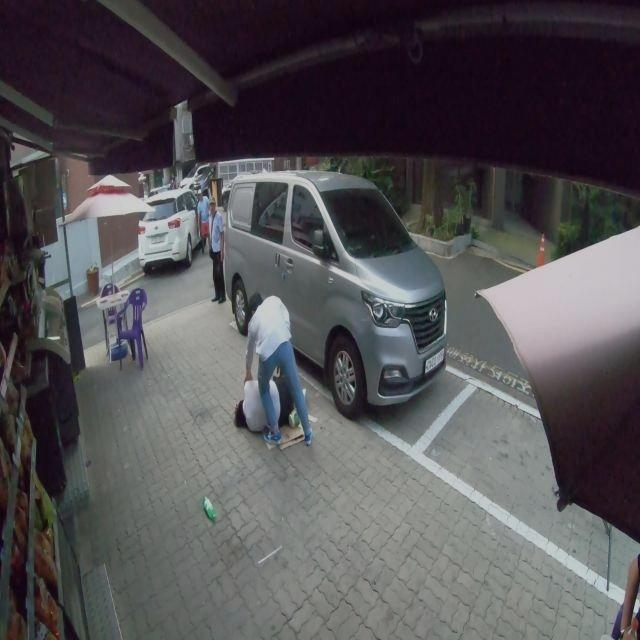fight: (233, 290, 313, 451)
non-fight: (201, 191, 228, 303)
